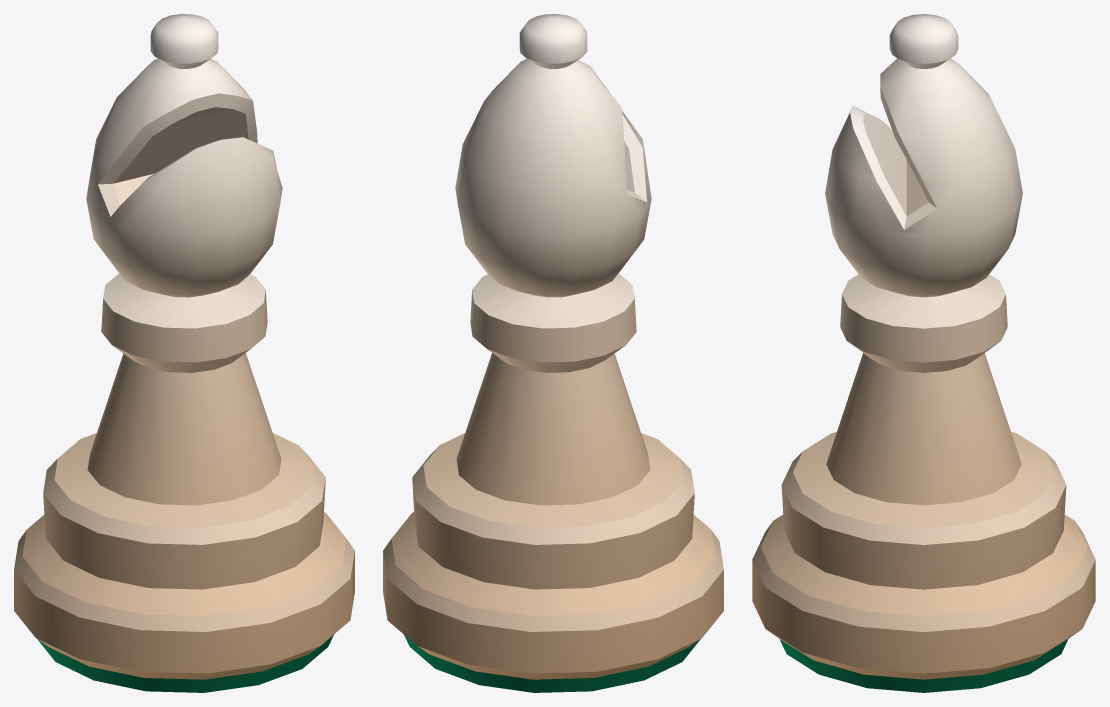
File: chess_white_bishop.obj
The picture shows the model from 3 angles, left to right: view 1: azimuth 30°, elevation 25°; view 2: azimuth 150°, elevation 25°; view 3: azimuth 270°, elevation 25°; orthographic projection.
Parts seen in each view (by area): view 1: chess_white_bishop; view 2: chess_white_bishop; view 3: chess_white_bishop.
Boxes of the visible parts, x1,y1,x2,y2 form: chess_white_bishop: (14, 14, 354, 692); chess_white_bishop: (383, 14, 723, 692); chess_white_bishop: (752, 14, 1095, 692).
Bounding box in the file's own units: 0.75 × 1.47 × 0.75.
Materials: 1 (1 with a texture image).
